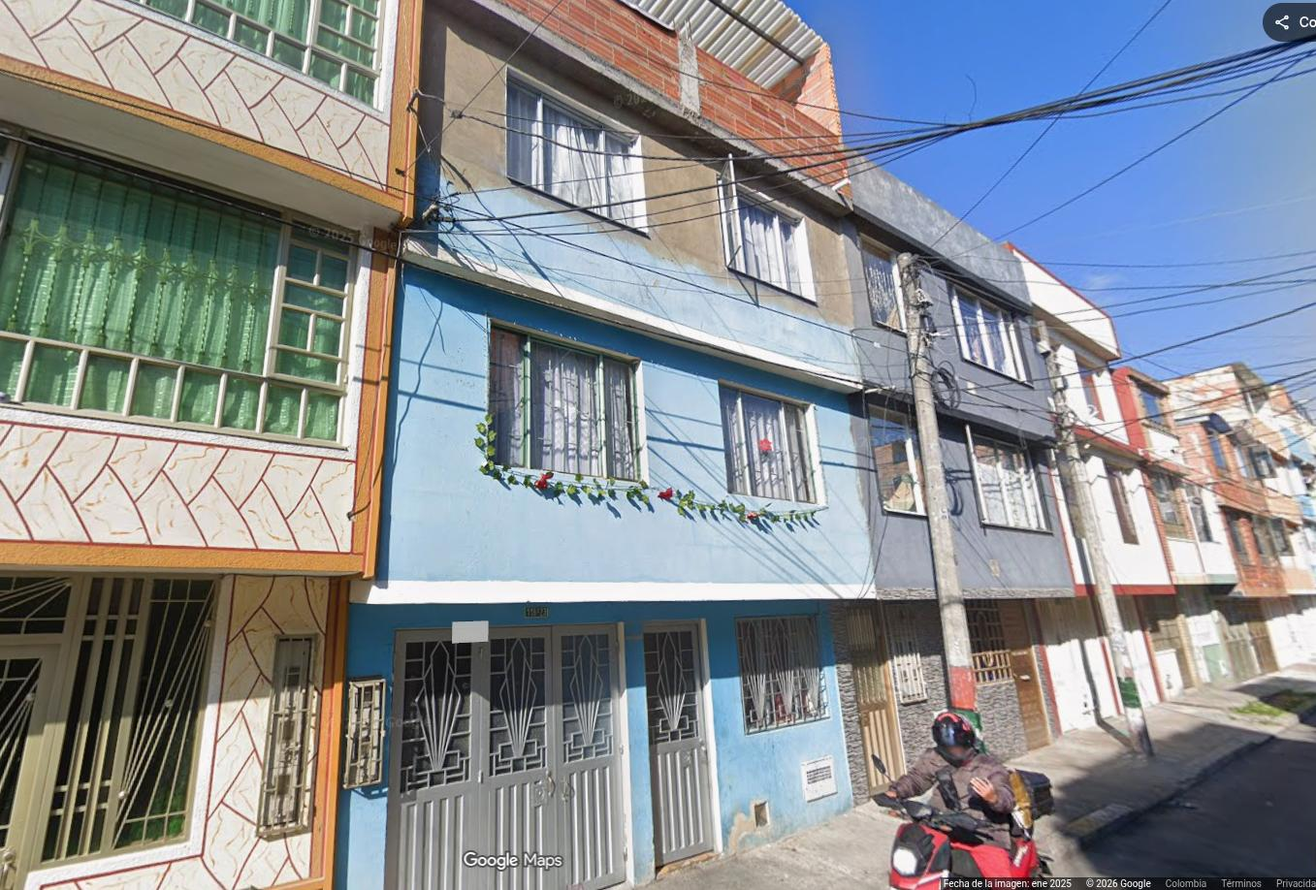casa: (337, 0, 883, 889), (0, 0, 421, 889), (836, 162, 1075, 793), (1011, 248, 1177, 703), (1038, 449, 1121, 731)
poste: (1037, 322, 1153, 757), (898, 252, 976, 717)
